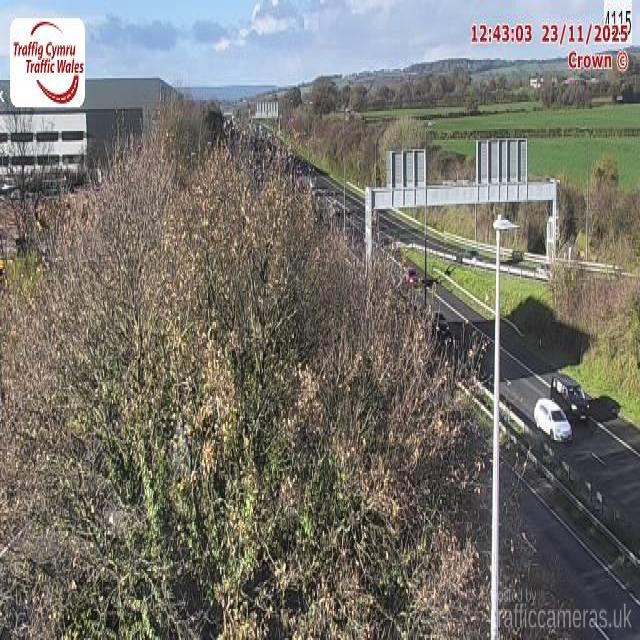foliage: (0, 120, 487, 638), (283, 110, 479, 189), (551, 271, 639, 405), (560, 156, 639, 260)
